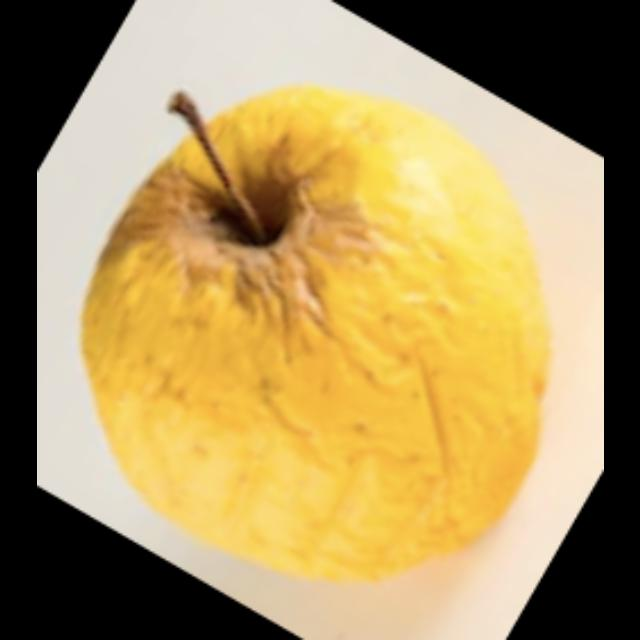Apel Tidak Segar: (72, 80, 556, 588)
